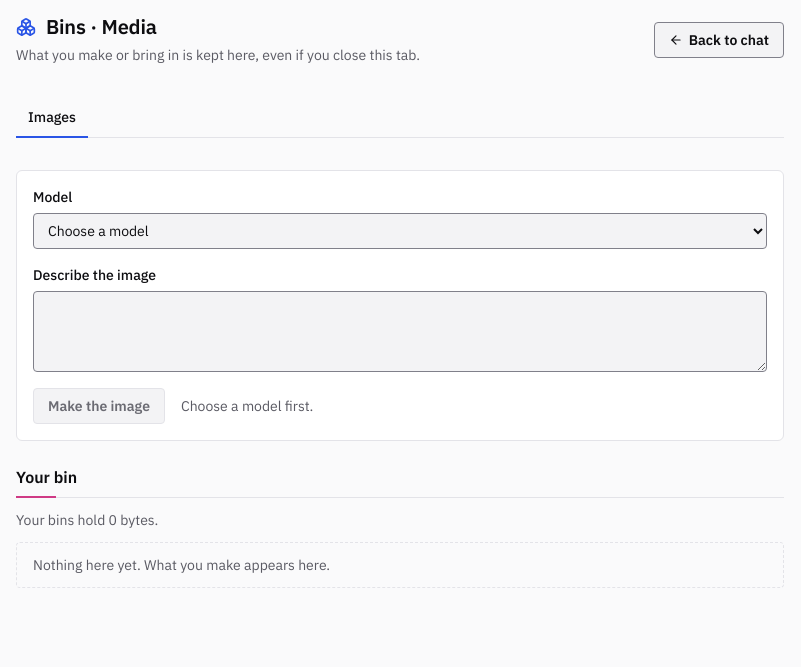
Test case: the images form › groups the reference images under their own label, once the model takes them
Select "openrouter/flux" in the dropdown with test id "image-model": [400, 231] box [33,213,767,249]
(page scrolled)
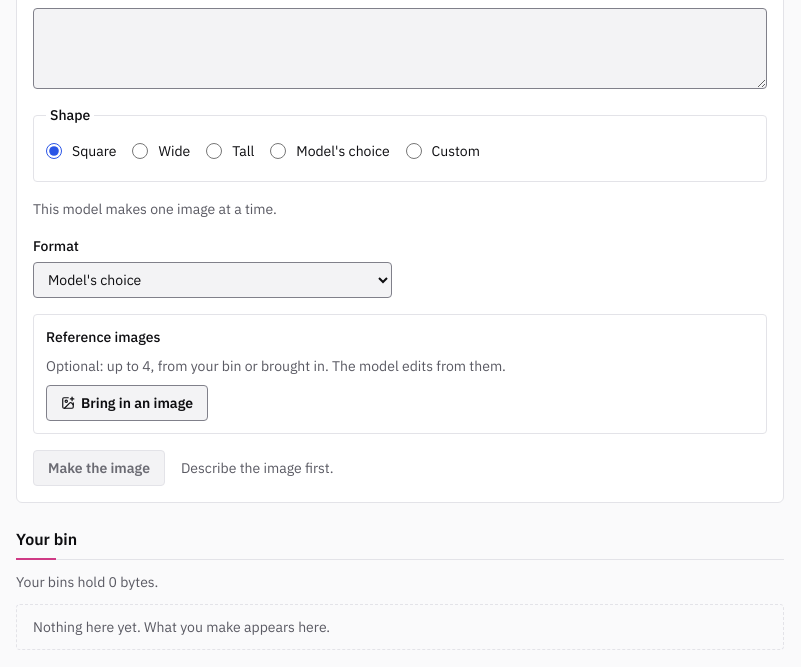
Check: the element "Reference images" shows "Optional: up to 4, from your bin or brought in.", box [46,357,506,375]
